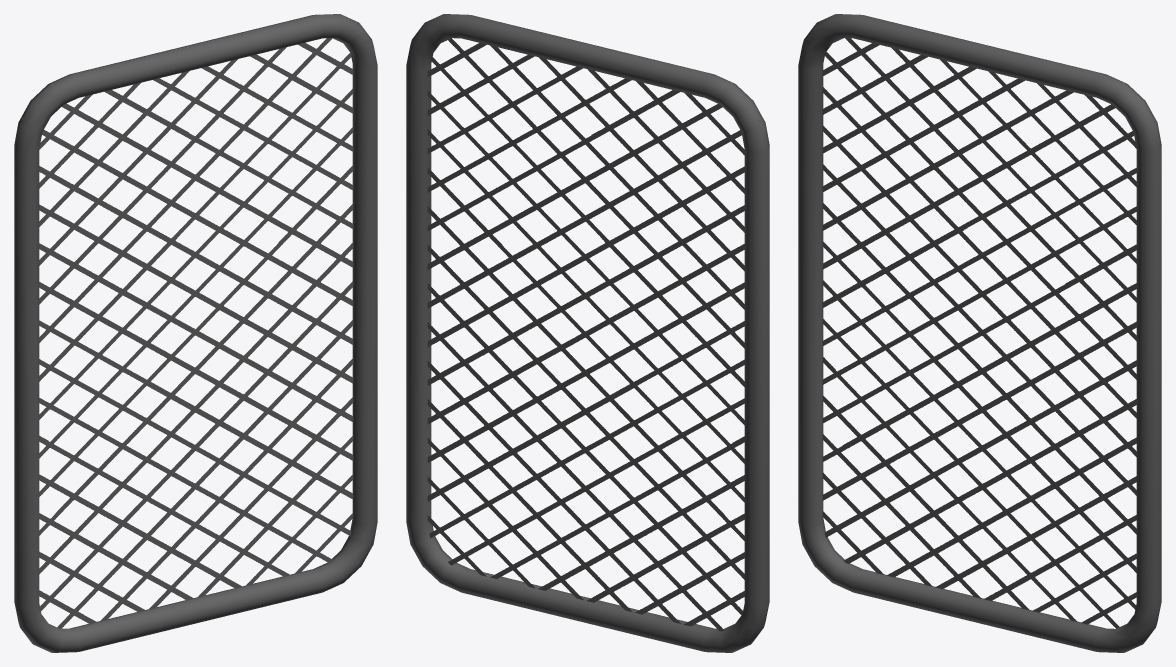
File: fencevariant.glb
The picture shows the model from 3 angles, left to right: view 1: azimuth 30°, elevation 25°; view 2: azimuth 150°, elevation 25°; view 3: azimuth 330°, elevation 25°; orthographic projection.
Parts seen in each view (by area): view 1: fencevariant; view 2: fencevariant; view 3: fencevariant.
Part boxes in pixels (bbox=[...]): fencevariant: bbox=[14, 14, 377, 652]; fencevariant: bbox=[406, 14, 769, 652]; fencevariant: bbox=[798, 14, 1161, 652].
Bounding box in the file's own units: 2.45 × 3.75 × 0.154.
Materials: 1 (1 with a texture image).
